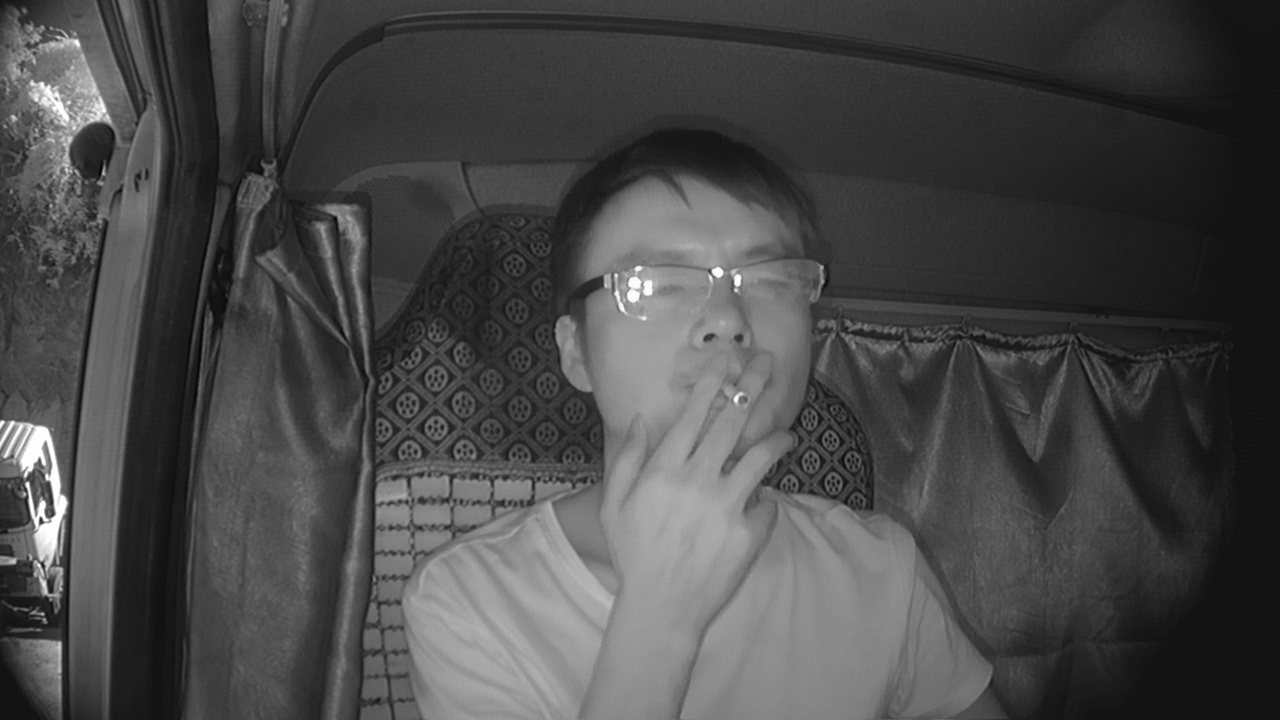hand: (620, 357, 793, 555)
